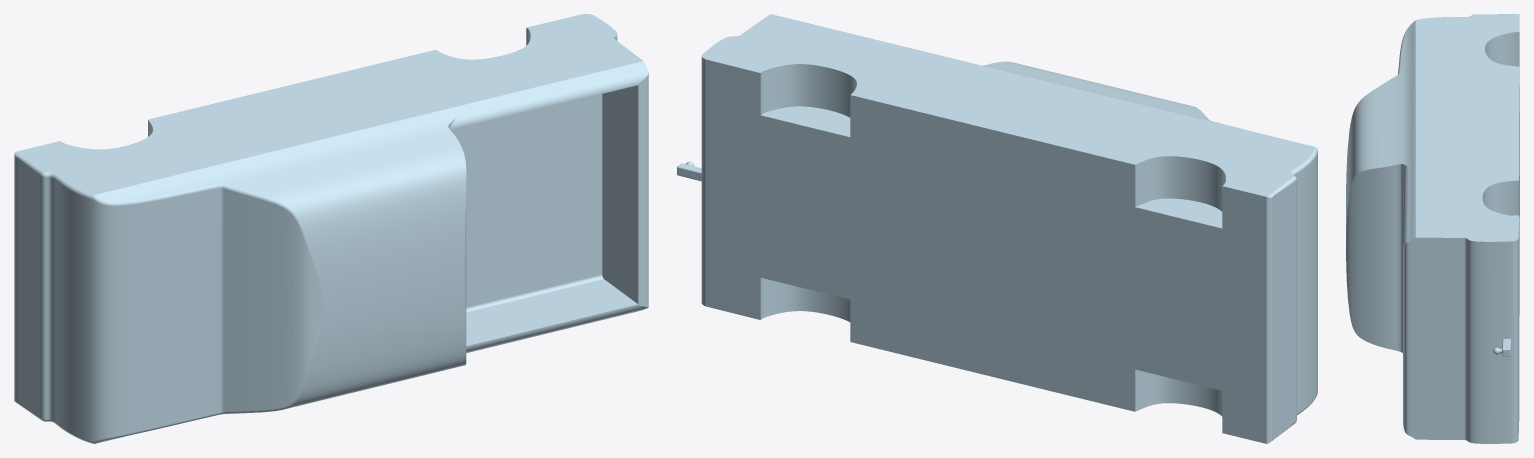
3 renders of one model, left to right at view 1: azimuth 30°, elevation 25°; view 2: azimuth 150°, elevation 25°; view 3: azimuth 270°, elevation 25°, orthographic. The views are drawn at different scales.
Parts seen in each view (by area): view 1: Part 1; view 2: Part 1; view 3: Part 1.
Boxes of the visible parts, x1,y1,x2,y2 form: Part 1: (14, 14, 648, 443); Part 1: (677, 14, 1317, 443); Part 1: (1346, 14, 1519, 443).
Bounding box in the file's own units: 0.0887 × 0.035 × 0.0273.
